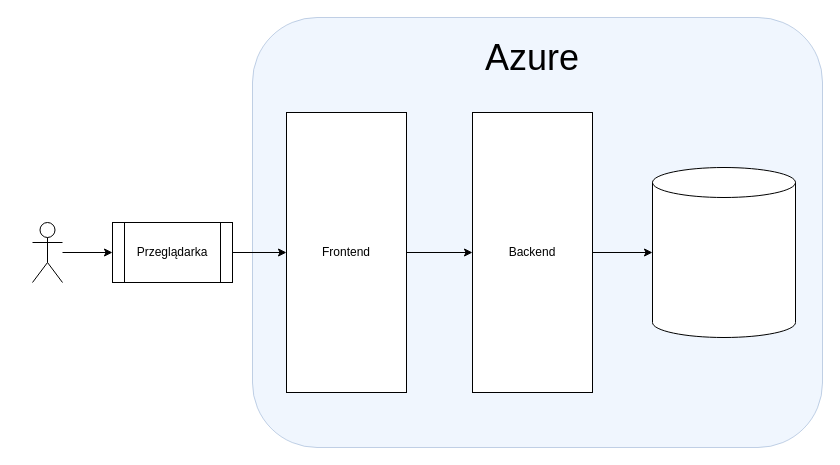
The diagram is 840 pixels wide and 465 high, and some of its shapes have lost their labels. The centre of each missing label's shape, as x and y in pixels:
Relacyjna baza danych PostgreSQL: the point at 724,252
Użytkownik: the point at 47,252
